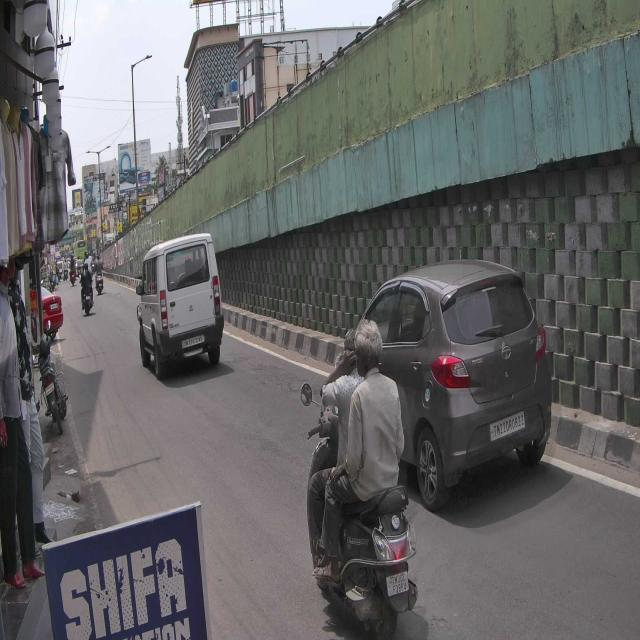double_rider: (298, 314, 418, 640)
